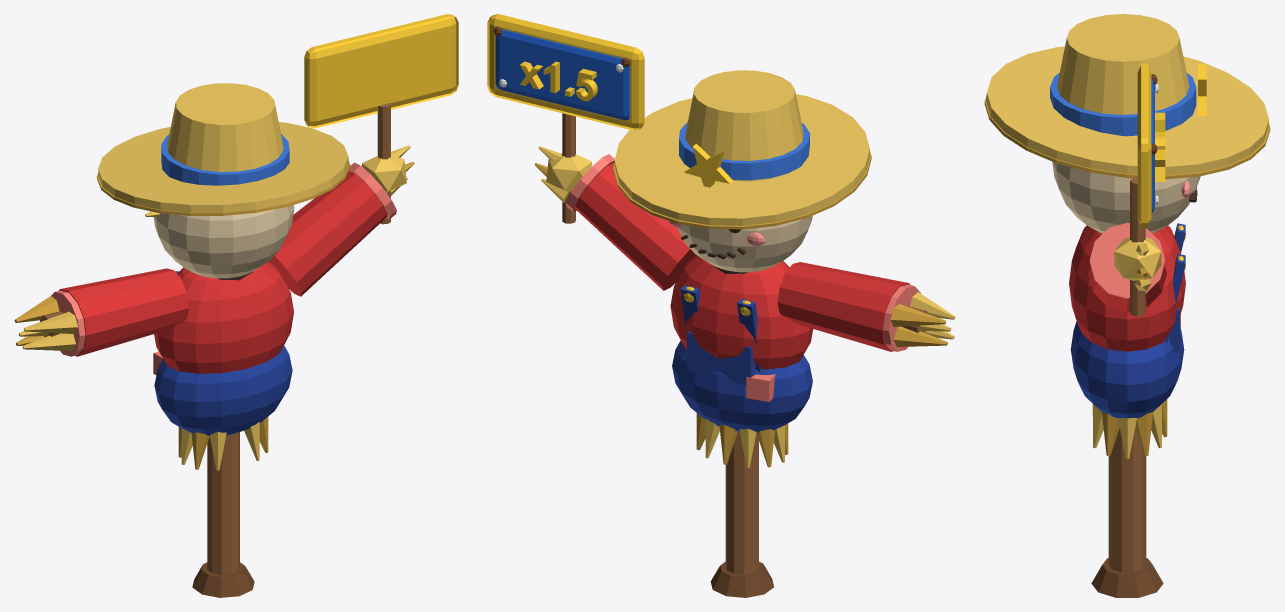
Rendered from XpScarecrow.glb.
3 views of the same model, side by side, from view 1: azimuth 30°, elevation 25°; view 2: azimuth 150°, elevation 25°; view 3: azimuth 270°, elevation 25° (orthographic). The views are drawn at different scales.
Parts seen in each view (by area): view 1: XpScarecrow__Shirt, XpScarecrow__Straw, XpScarecrow__Gold, XpScarecrow__Overall, XpScarecrow__Sack, XpScarecrow__Wood, XpScarecrow__StrawDark, XpScarecrow__HatBand, XpScarecrow__ShirtLight, XpScarecrow__WoodDark; view 2: XpScarecrow__Straw, XpScarecrow__Shirt, XpScarecrow__Overall, XpScarecrow__Gold, XpScarecrow__SignBlue, XpScarecrow__Wood, XpScarecrow__StrawDark, XpScarecrow__Sack, XpScarecrow__ShirtLight, XpScarecrow__HatBand, XpScarecrow__WoodDark; view 3: XpScarecrow__Straw, XpScarecrow__Overall, XpScarecrow__Shirt, XpScarecrow__Wood, XpScarecrow__Sack, XpScarecrow__Gold, XpScarecrow__HatBand, XpScarecrow__StrawDark, XpScarecrow__ShirtLight, XpScarecrow__WoodDark, XpScarecrow__SignBlue.
Part boxes in pixels (x1,y1,x2,y2): XpScarecrow__Shirt: (59,171,387,373); XpScarecrow__Straw: (18,83,410,470); XpScarecrow__Gold: (176,14,458,272); XpScarecrow__Overall: (154,271,292,435); XpScarecrow__Sack: (153,205,294,278); XpScarecrow__Wood: (40,103,390,574); XpScarecrow__StrawDark: (14,161,414,469); XpScarecrow__HatBand: (161,134,289,185); XpScarecrow__ShirtLight: (51,162,396,374); XpScarecrow__WoodDark: (192,562,254,597); XpScarecrow__Straw: (538,70,955,467); XpScarecrow__Shirt: (575,163,910,369); XpScarecrow__Overall: (672,285,812,432); XpScarecrow__Gold: (487,14,750,316); XpScarecrow__SignBlue: (495,29,629,120); XpScarecrow__Wood: (562,113,927,574); XpScarecrow__StrawDark: (534,151,947,467); XpScarecrow__Sack: (677,216,812,272); XpScarecrow__ShirtLight: (565,154,920,401); XpScarecrow__HatBand: (679,122,809,180); XpScarecrow__WoodDark: (493,26,773,597); XpScarecrow__Straw: (986,14,1268,458); XpScarecrow__Overall: (1070,223,1185,418); XpScarecrow__Shirt: (1069,225,1185,351); XpScarecrow__Wood: (1108,177,1146,572); XpScarecrow__Sack: (1052,161,1200,233); XpScarecrow__Gold: (1137,63,1206,271); XpScarecrow__HatBand: (1050,73,1196,136); XpScarecrow__StrawDark: (984,96,1270,456); XpScarecrow__ShirtLight: (1089,222,1180,328); XpScarecrow__WoodDark: (1091,74,1163,597); XpScarecrow__SignBlue: (1151,76,1154,212).
Size of the model in its own units: 6.76 by 7.36 by 3.33.
